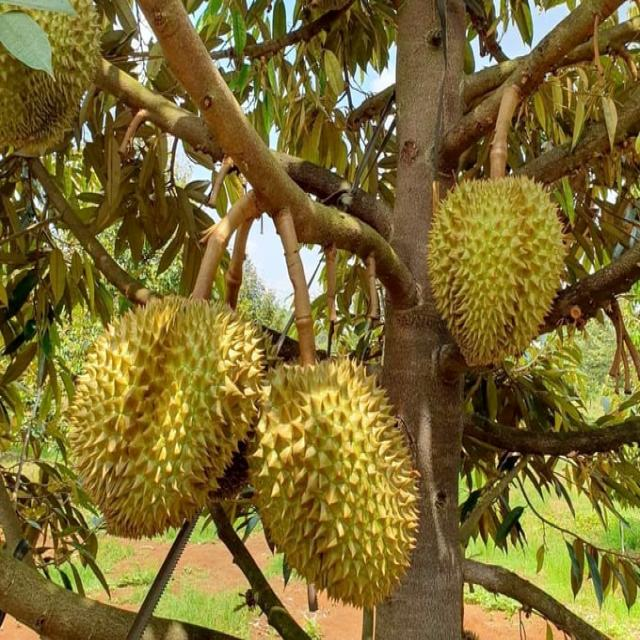Sau Rieng: (68, 294, 260, 533), (249, 354, 415, 597), (427, 174, 567, 364), (2, 0, 101, 151)
